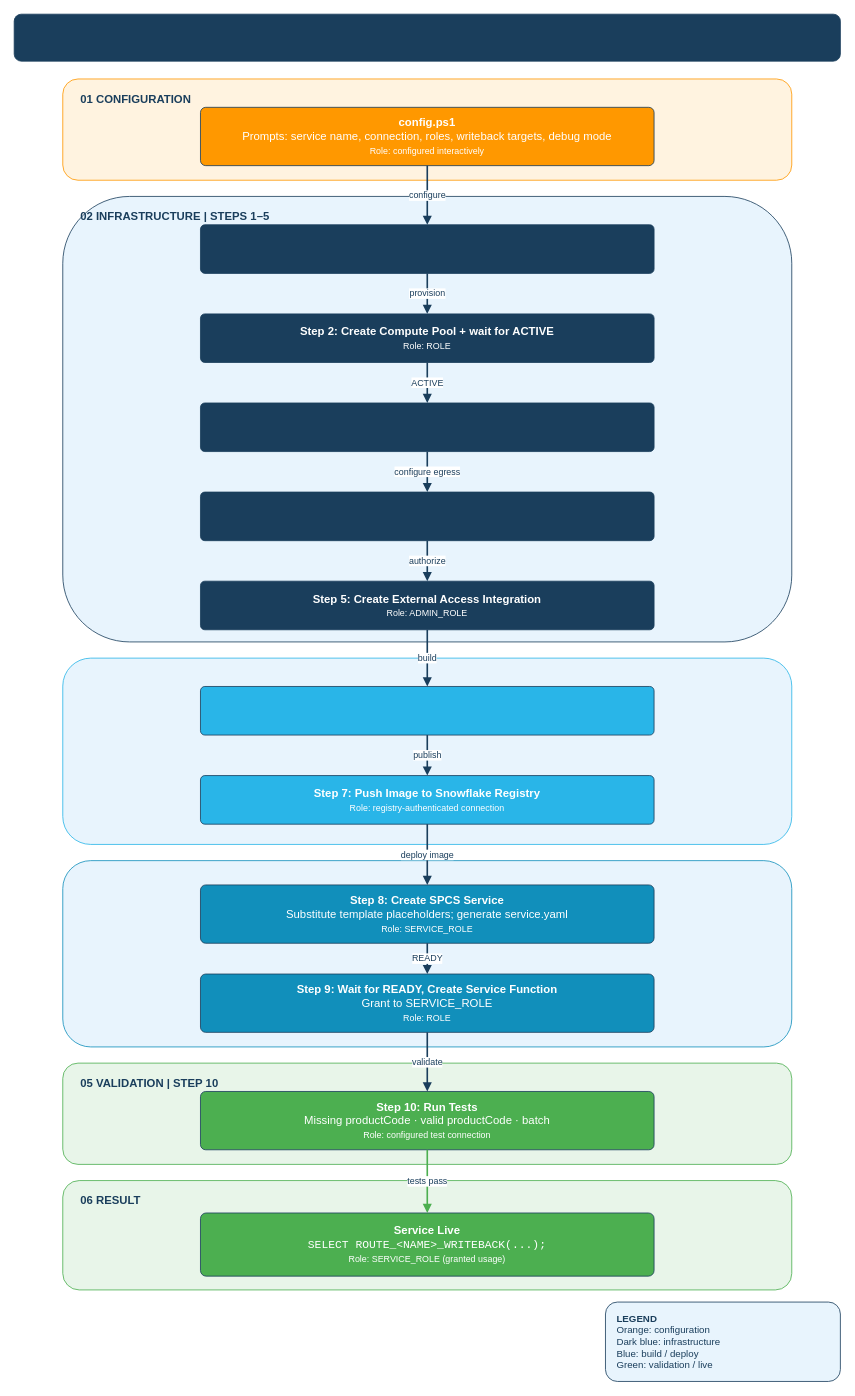
Some shapes in this 855 by 1396 pixel diagram are drawn without their labels. Here are the shapes that lost their labels. From the top down, the box of each, then its label:
(13, 13, 840, 61): SPCS WRITEBACK SERVICE DEPLOYMENT | October 2026
(200, 224, 654, 273): Step 1: Create Image Repository Role: ROLE
(200, 402, 654, 452): Step 3: Create Network Rule for egress Role: ROLE
(200, 491, 654, 541): Step 4: Create Secret Role: ROLE
(200, 686, 654, 735): Step 6: Docker Build (linux/amd64) Role: local Docker environment
(62, 657, 792, 844): 03 BUILD | STEPS 6–7
(62, 860, 792, 1047): 04 DEPLOY | STEPS 8–9
